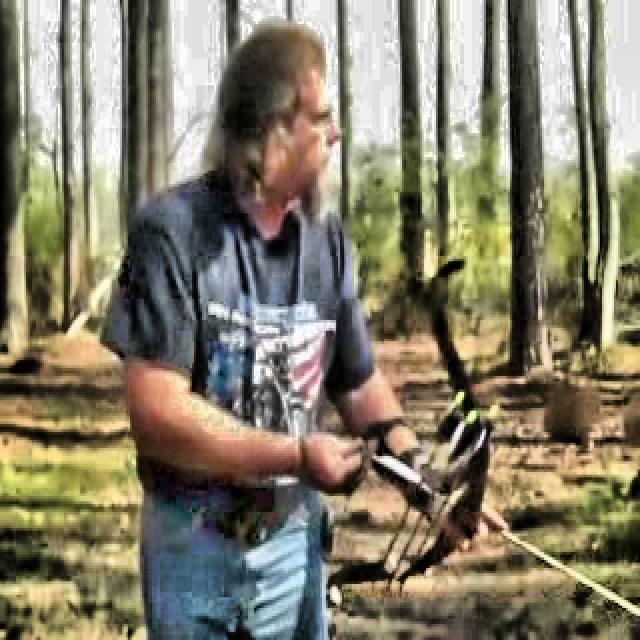I: (120, 11, 488, 640)
